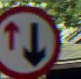Two way: (1, 6, 61, 78)
